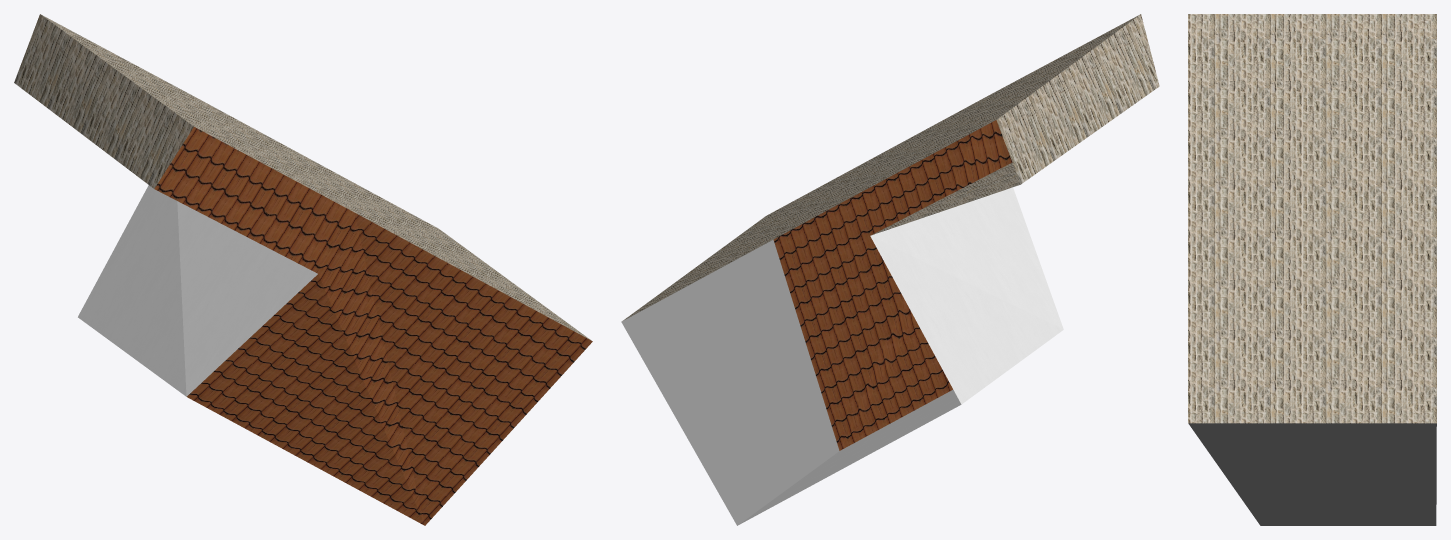
Rendered from Lai_30a_2-origo.obj.
3 views of the same model, side by side, from view 1: azimuth 30°, elevation 25°; view 2: azimuth 150°, elevation 25°; view 3: azimuth 270°, elevation 25° (orthographic). The views are drawn at different scales.
Parts seen in each view (by area): view 1: Lai_30_garage; view 2: Lai_30_garage; view 3: Lai_30_garage.
Part boxes in pixels (left/top/right/bottom): Lai_30_garage: left=14, top=14, right=592, bottom=525; Lai_30_garage: left=621, top=14, right=1159, bottom=525; Lai_30_garage: left=1188, top=14, right=1436, bottom=525.
Size of the model in its own units: 7.19 by 8 by 4.47.
